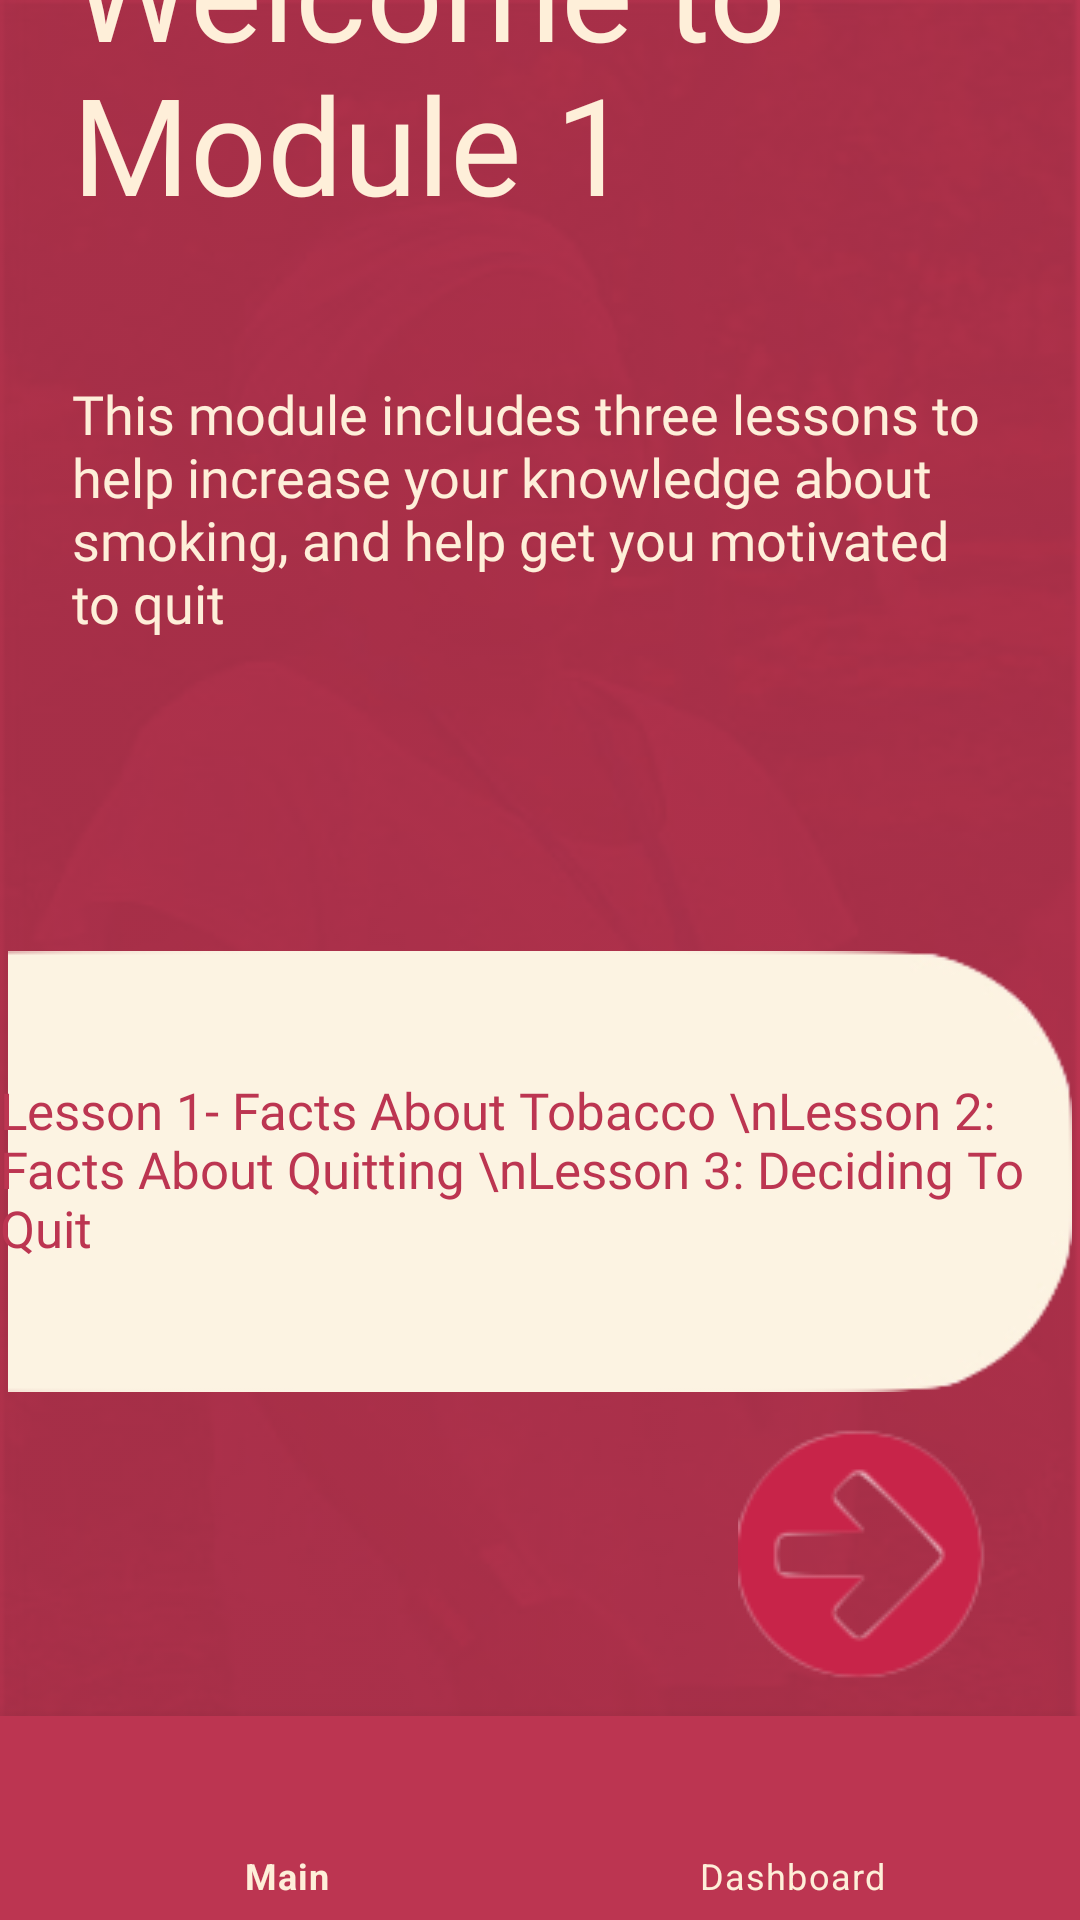

Point at icon controls on the screen. Image size 1080px×1920px, points as [x,y].
next: [860,1553]
